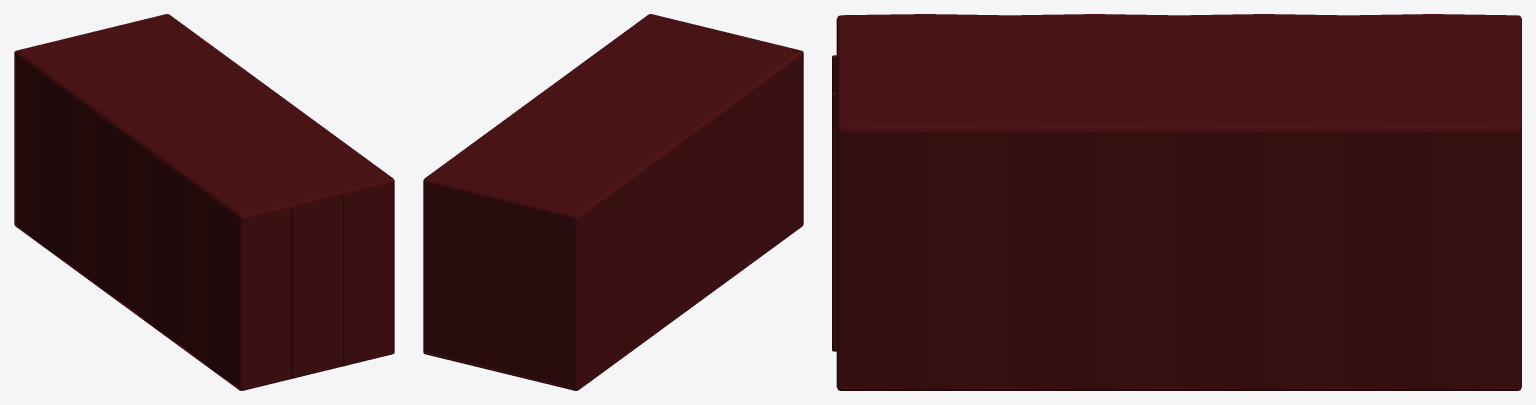
The model's file is container.glb.
The picture shows the model from 3 angles, left to right: view 1: azimuth 30°, elevation 25°; view 2: azimuth 150°, elevation 25°; view 3: azimuth 270°, elevation 25°; orthographic projection. The views are drawn at different scales.
Visible parts, largest first — view 1: container_old; view 2: container_old; view 3: container_old.
Part boxes in pixels (x1,y1,x2,y2): container_old: (14,14,394,390); container_old: (423,14,803,390); container_old: (832,14,1521,390).
Bounding box in the file's own units: 2.42 × 2.61 × 6.13.
